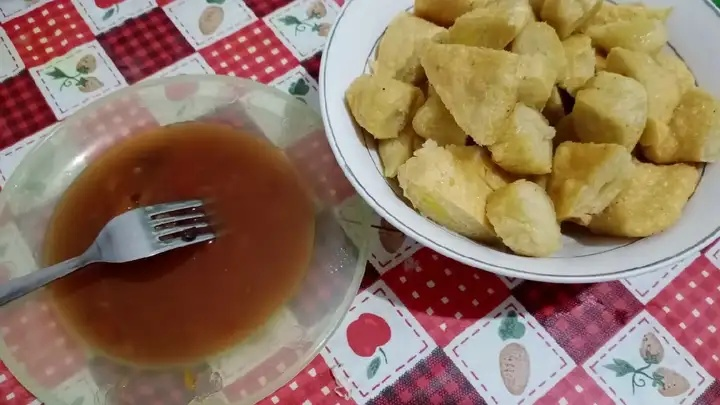pempek: (344, 2, 720, 259)
